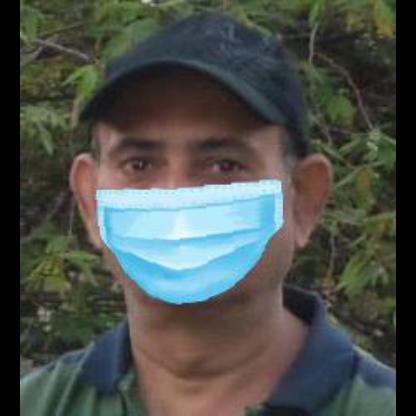Surgical Mask: (99, 43, 300, 305)
